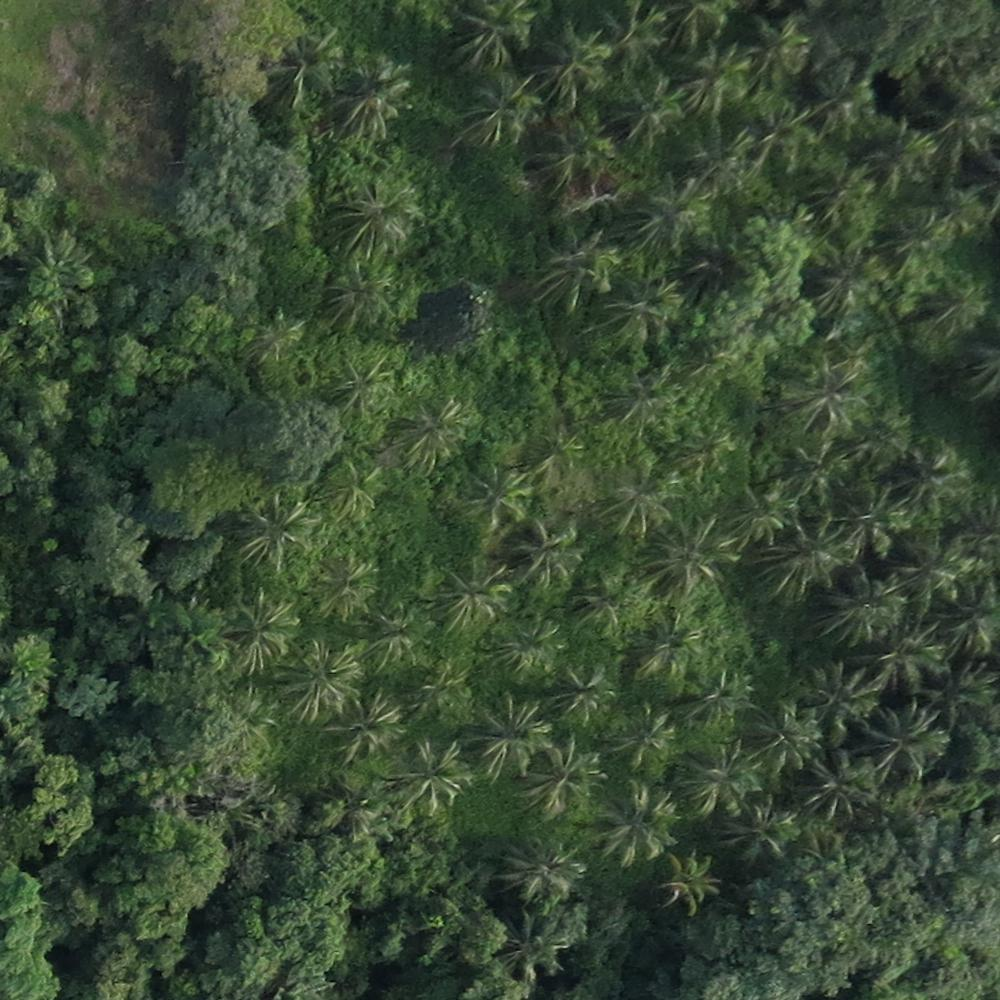Palm: (281, 644, 364, 723), (592, 790, 678, 864), (816, 579, 901, 652), (469, 699, 547, 778), (334, 183, 417, 257), (238, 493, 319, 567), (432, 558, 513, 632), (653, 521, 733, 595), (862, 706, 940, 781), (767, 523, 846, 596), (331, 67, 408, 140), (523, 742, 601, 814), (797, 662, 869, 736), (688, 739, 760, 812), (464, 78, 538, 147), (395, 746, 473, 811), (805, 756, 874, 827), (321, 265, 394, 332), (451, 5, 530, 66), (224, 597, 291, 668), (462, 466, 530, 535), (498, 833, 573, 895), (750, 710, 817, 778), (398, 404, 469, 465), (637, 615, 706, 677), (329, 352, 397, 414), (653, 851, 720, 912), (368, 605, 432, 666), (339, 697, 401, 759), (613, 705, 675, 765), (517, 522, 577, 583), (556, 664, 615, 726), (321, 463, 382, 522), (311, 556, 374, 613), (691, 671, 754, 728), (504, 619, 565, 674)
